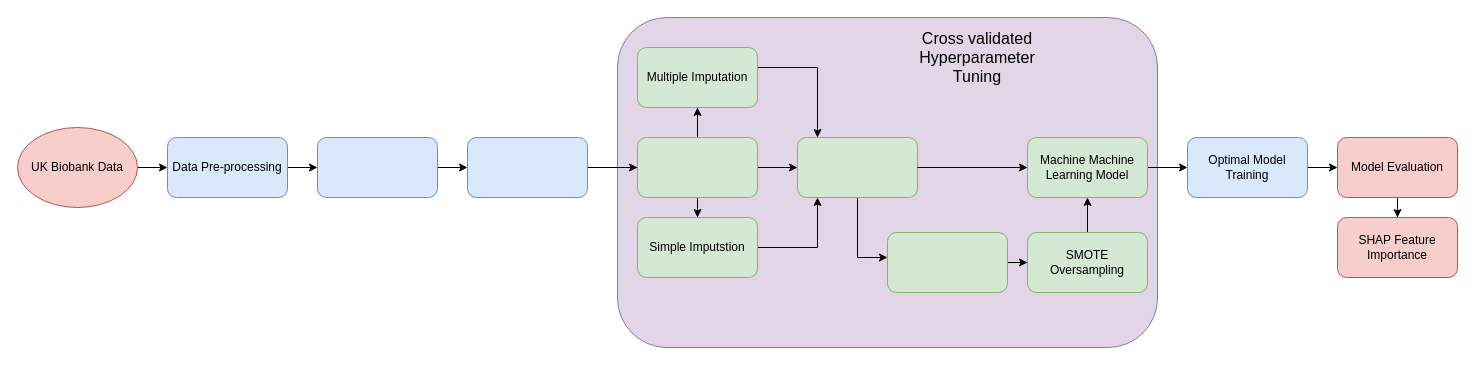
Some shapes in this 1475 by 365 pixel diagram are drawn without their labels. The shapes that lost their labels are listed below. From the top down, each one's box as (x1, y1, x2, y2) in pixels, then its label:
(316, 136, 438, 198): Grid searched Recursive Feature Elimination
(466, 136, 588, 198): Random Undersampling
(636, 136, 758, 198): KNN Imputation
(796, 136, 918, 198): Feature Encoding
(886, 232, 1008, 292): Tomek Links Undersampling
